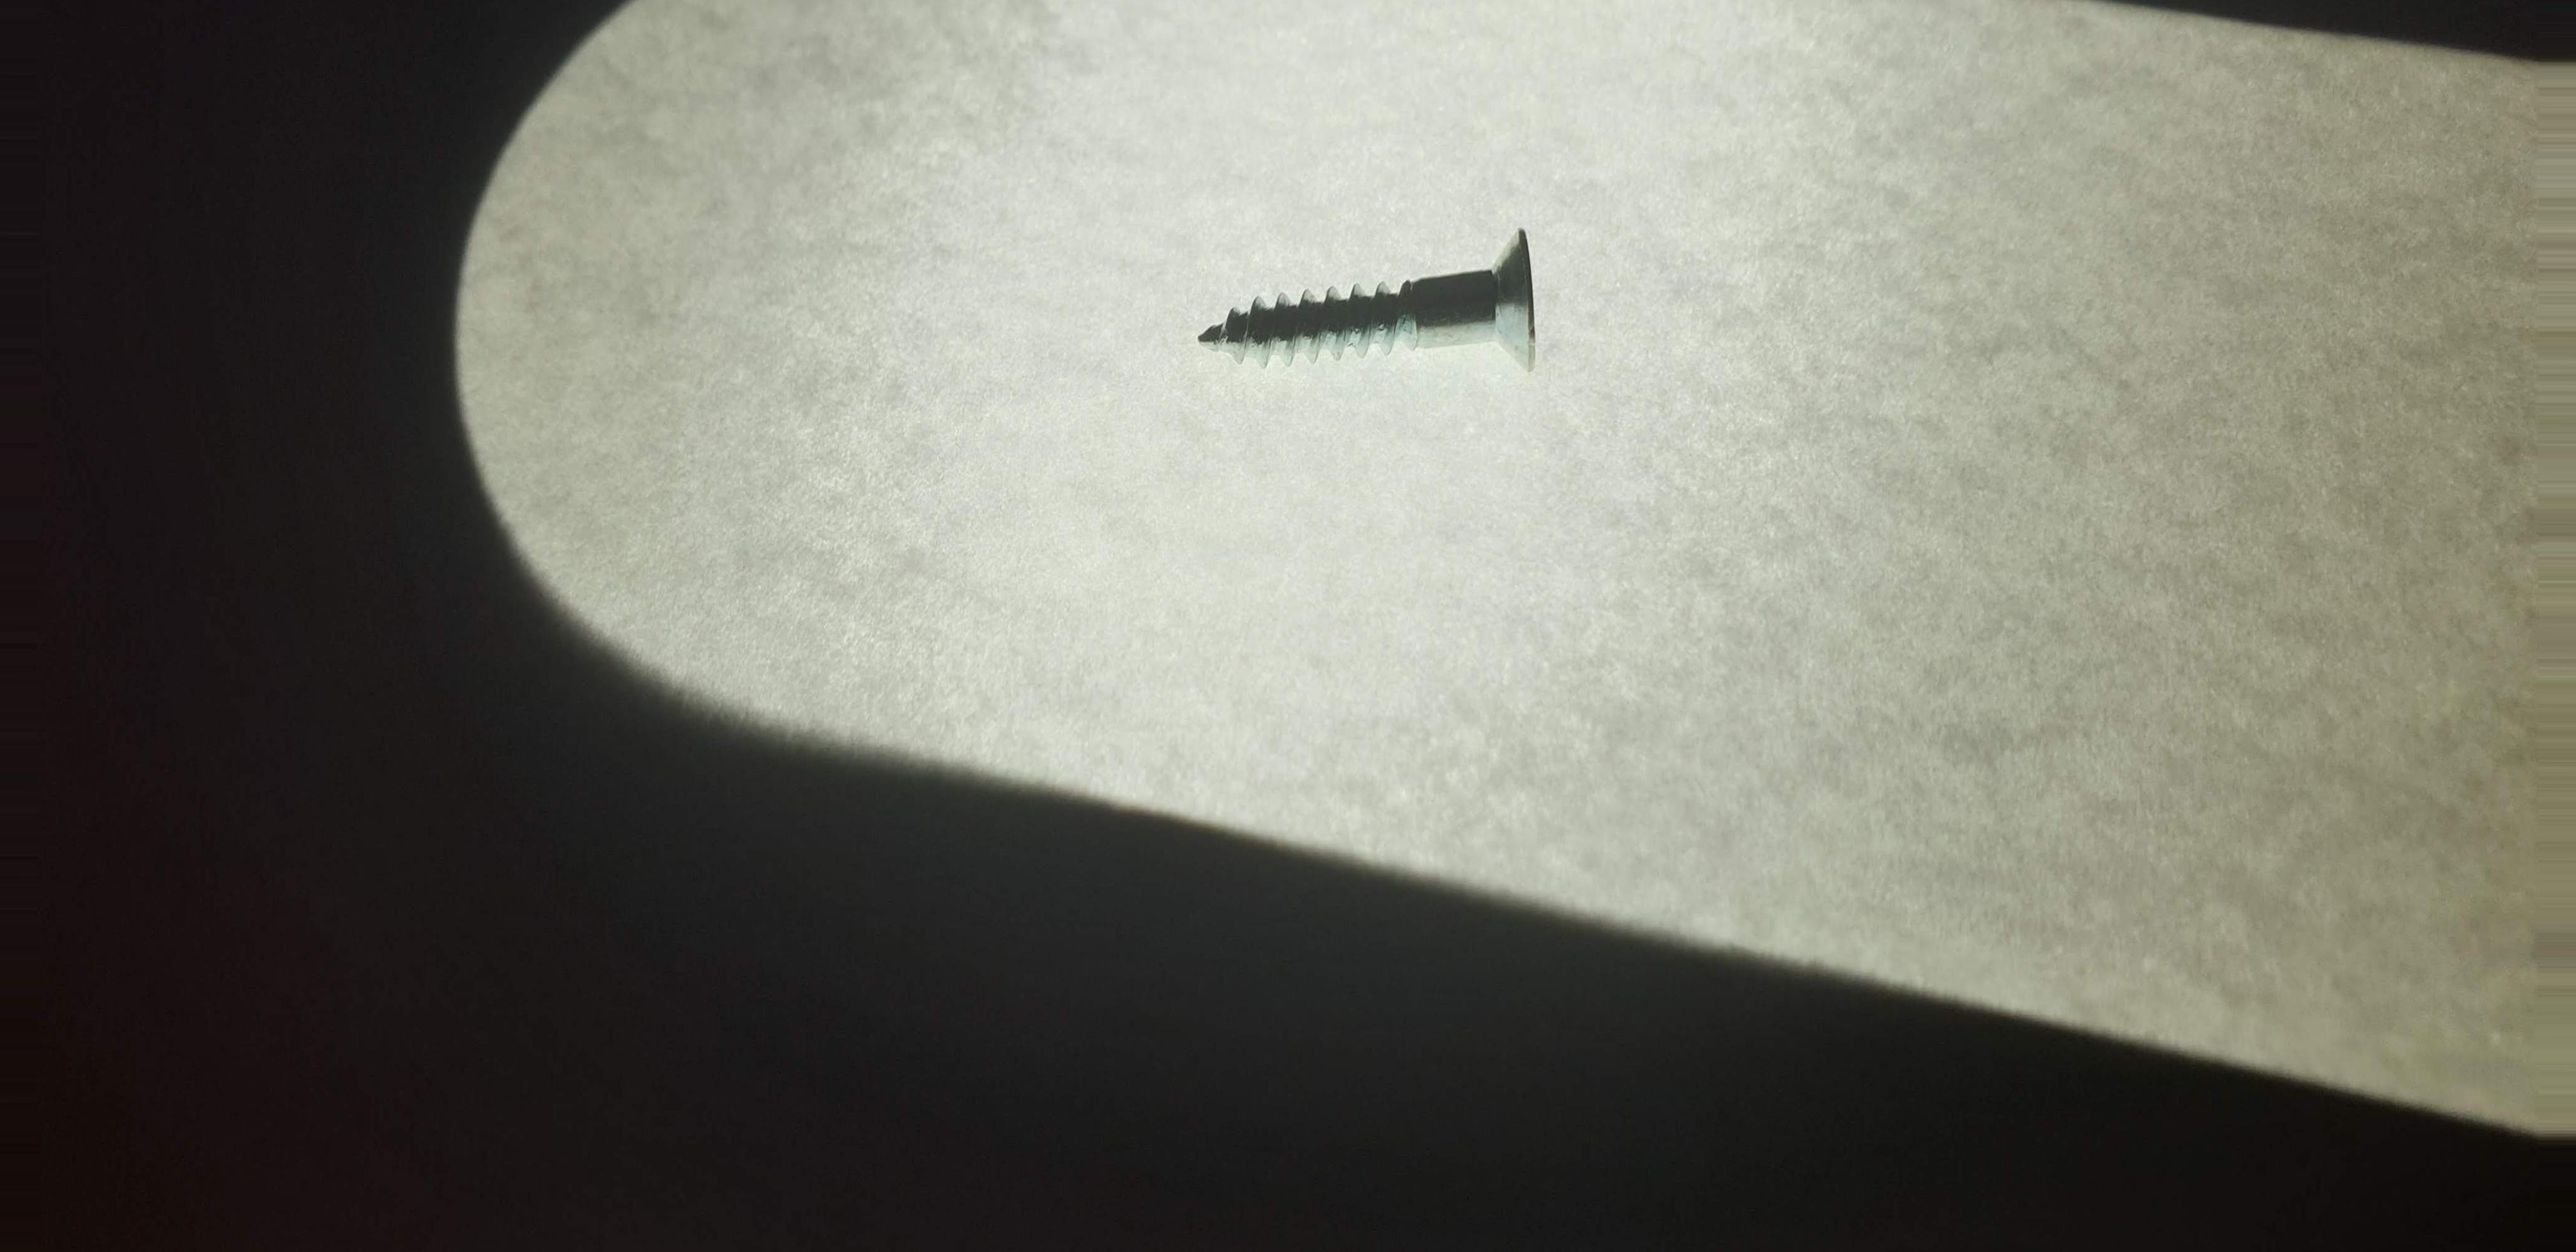S005: (1155, 186, 1626, 414)
